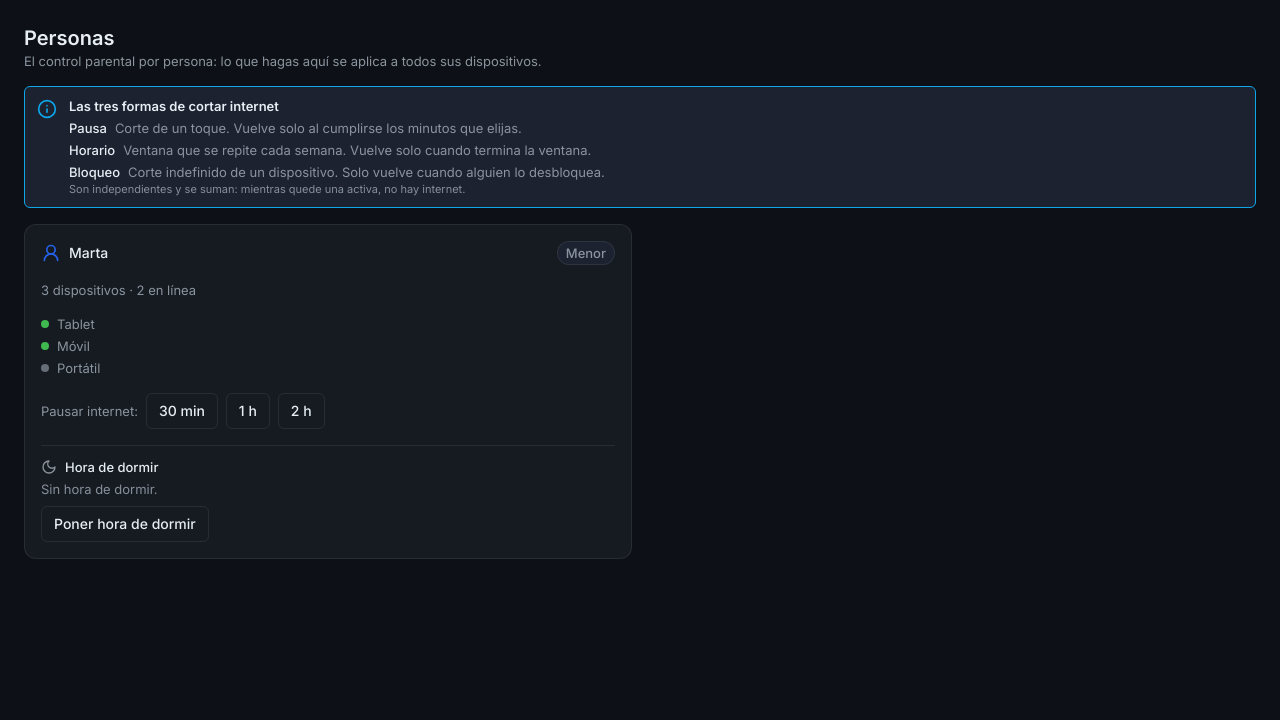
PeoplePage (US-240) › reporta el parcial real en vez de decir «hecho»
This screenshot has width=1280, height=720.
Expected: the heading "Marta" is shown, x1=69 y1=244 x2=108 y2=261
What coordinates should you click on to do the following:
click the button with aria-label "Pausar el internet de Marta 30"
I would click on:
 (182, 411)
Its box is x1=146 y1=393 x2=218 y2=429.
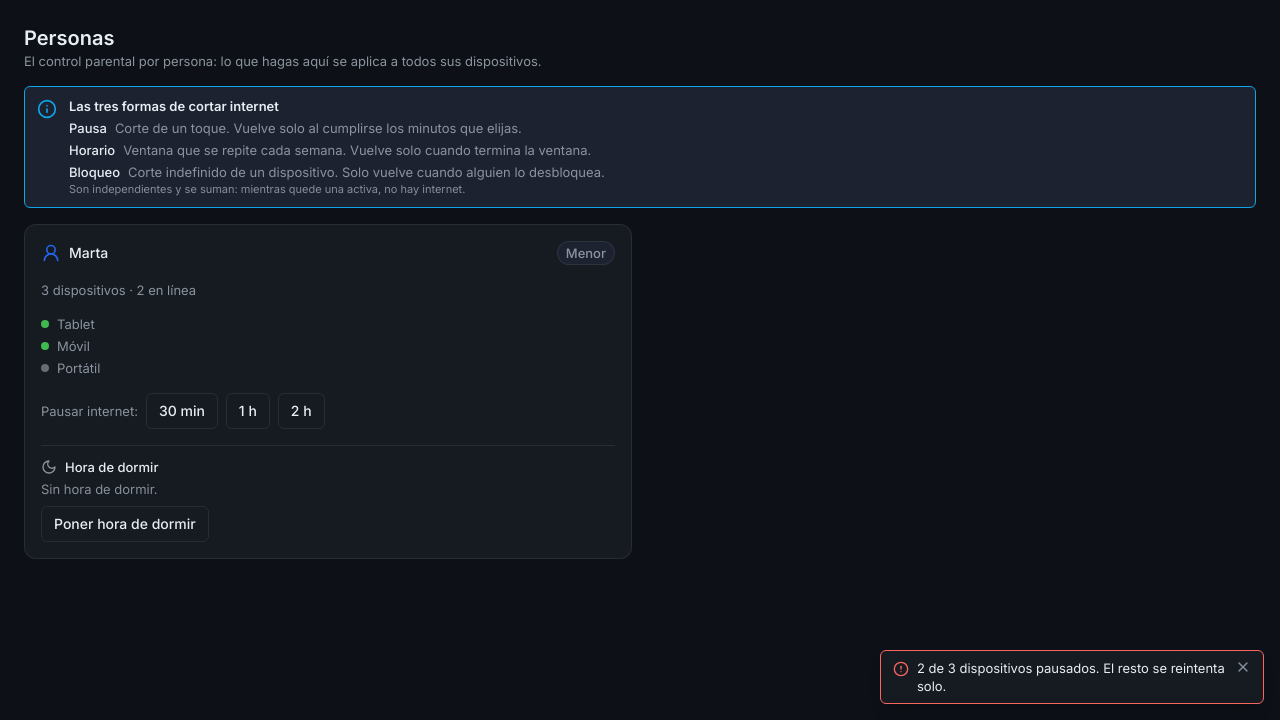
Now the text "2 de 3 dispositivos pausados. El resto se reintenta solo." is shown, box x1=917 y1=659 x2=1227 y2=695
